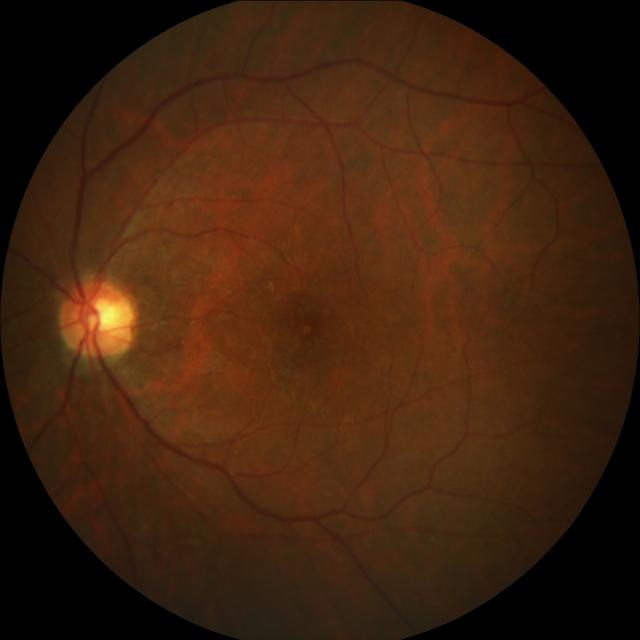OC: (81, 296, 120, 334)
OD: (57, 278, 135, 358)
